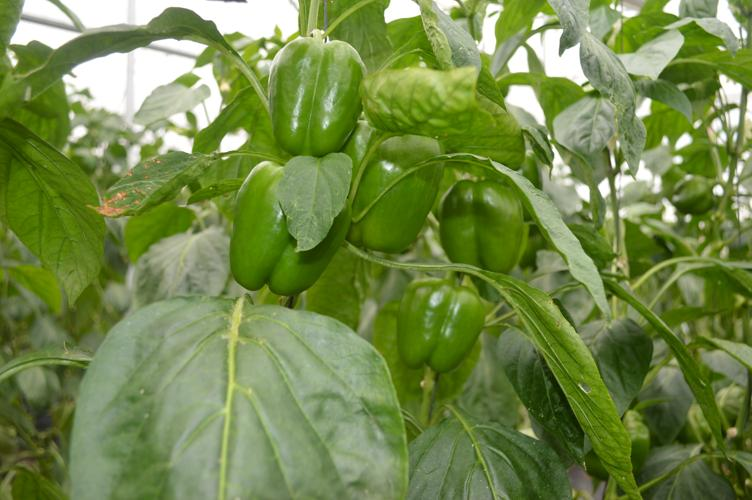BellPepper: (229, 166, 345, 297), (264, 36, 363, 149), (340, 135, 435, 251), (432, 179, 523, 276), (391, 279, 481, 374)
